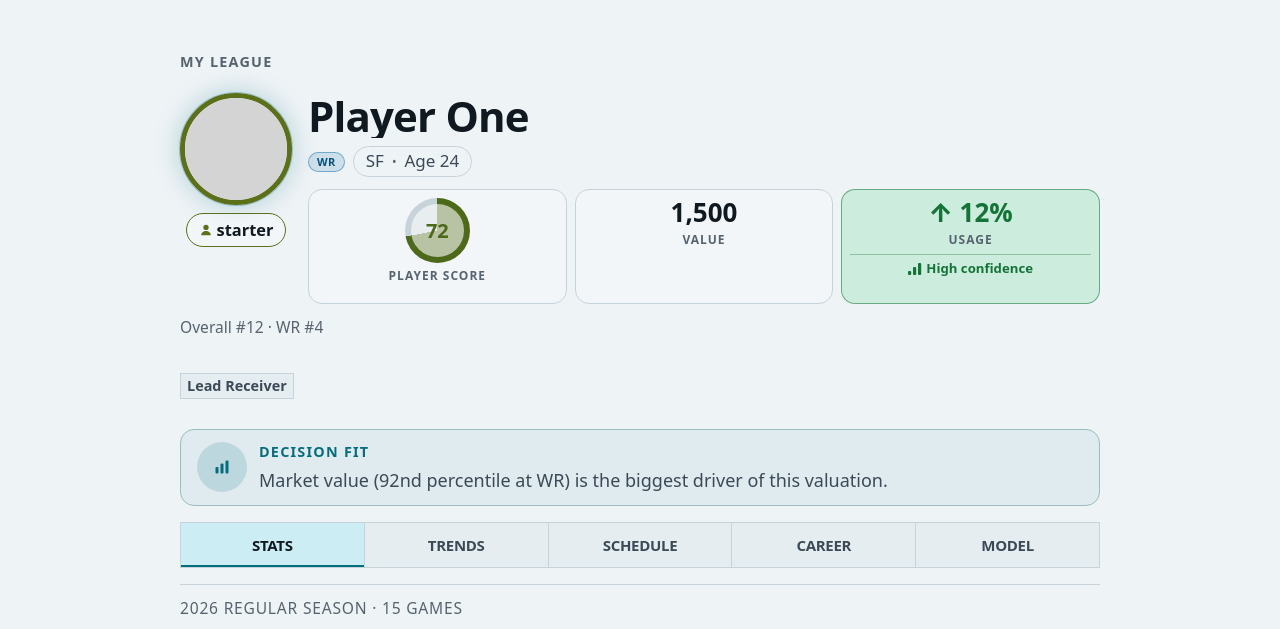
Scenario: PlayerProfileContent › shows the Career tab's loading, empty, and real states, with only the most recent season expanded by default
Click the tab "Career" at (823, 546), box x1=731 y1=524 x2=915 y2=568
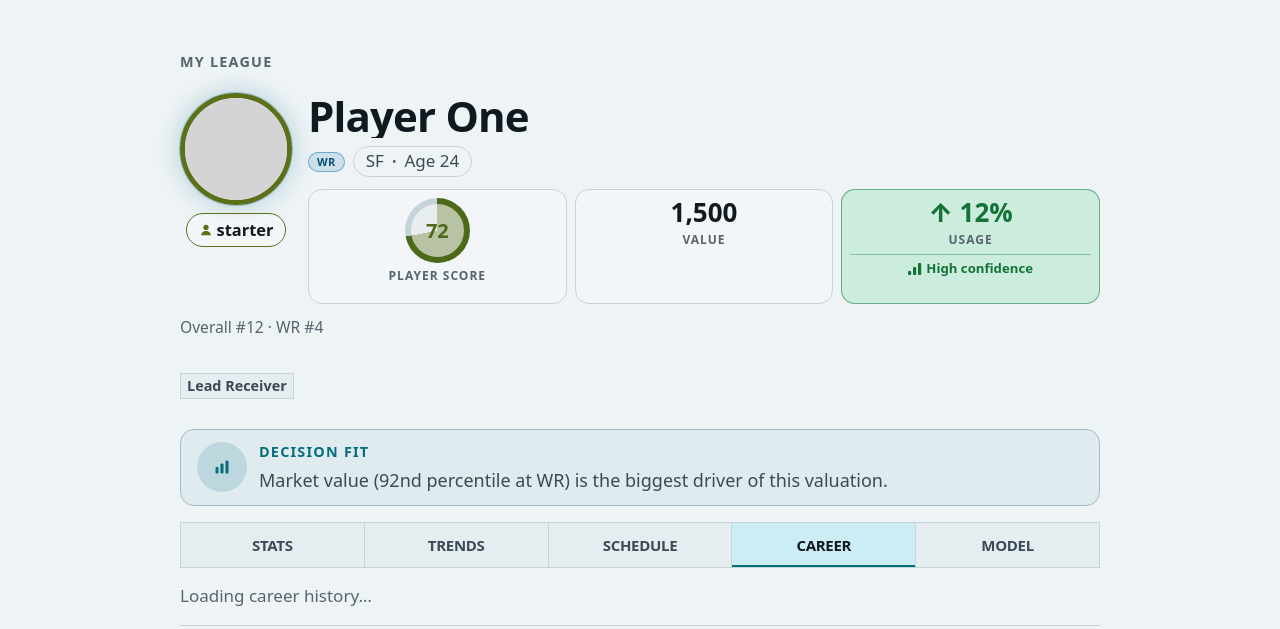
Expected: the text "Loading career history…" is shown, x1=180 y1=584 x2=372 y2=608
Click the tab "Stats" at (272, 546), box x1=181 y1=524 x2=364 y2=568
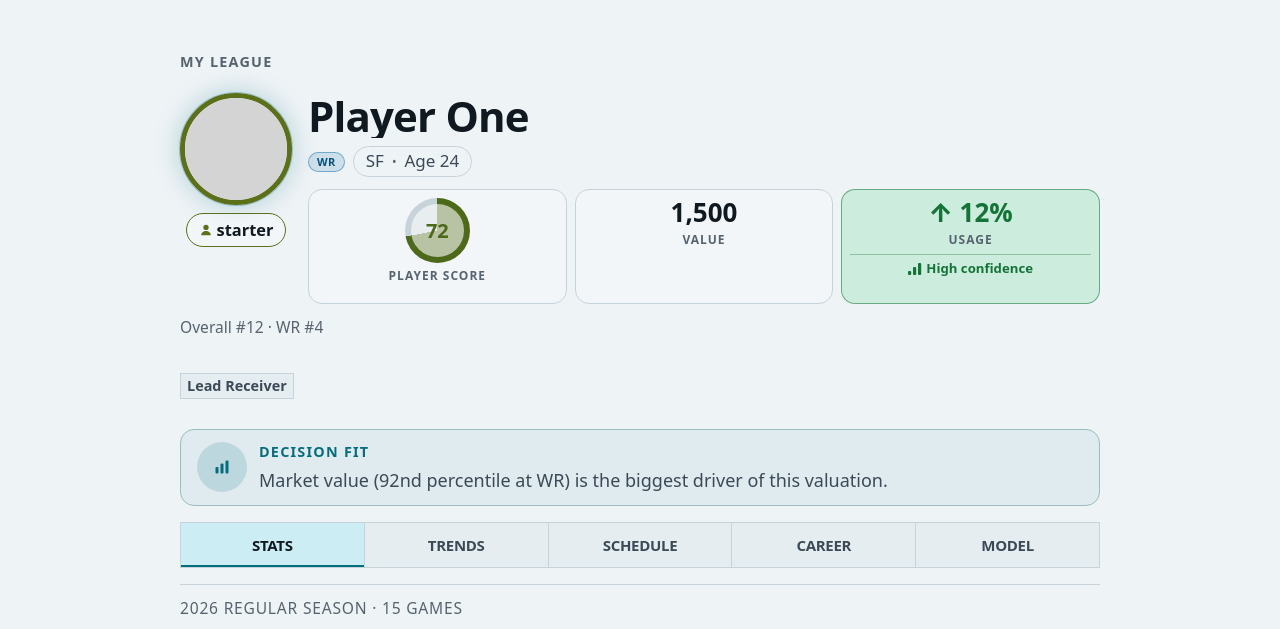
Click the tab "Career" at (823, 546), box x1=731 y1=524 x2=915 y2=568
(page scrolled)
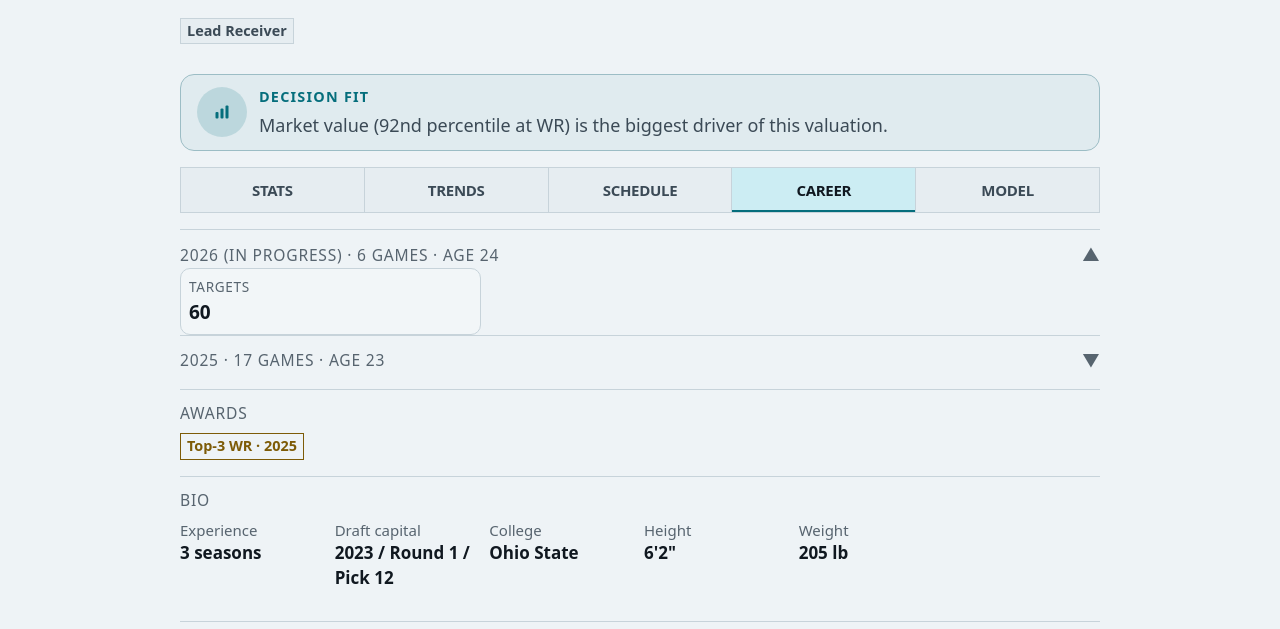
Expected: the text "150" is not shown
Expected: the text "60" is shown, x1=189 y1=298 x2=211 y2=324
Click the button "2025 · 17 games · Age 23 ▼" at (199, 360), box x1=180 y1=348 x2=1100 y2=374
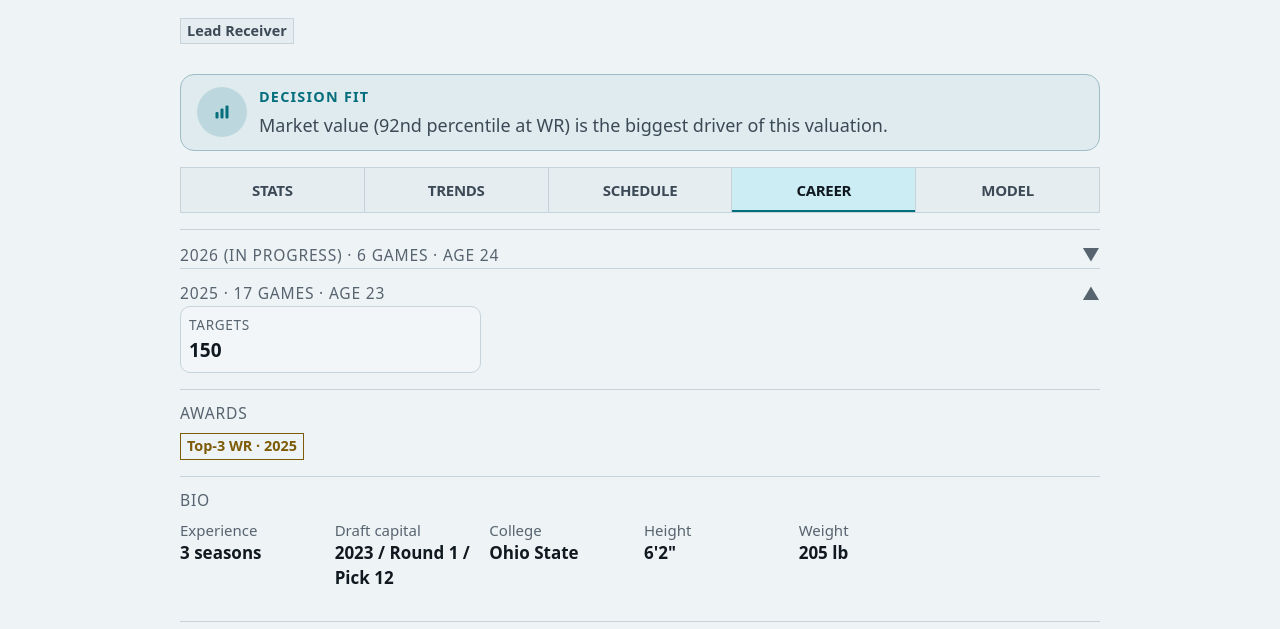
Expected: the text "150" is shown, x1=189 y1=337 x2=222 y2=363
